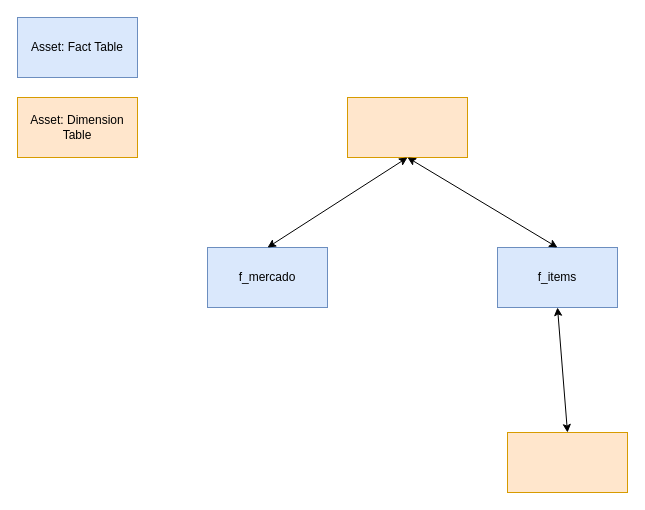
Some shapes in this 645 by 510 pixel diagram are drawn without their labels. Here are the shapes that lost their labels. From the top down, the centre of each, then its label:
At (x=407, y=127): "d_apps".
At (x=567, y=462): "d_currency".
